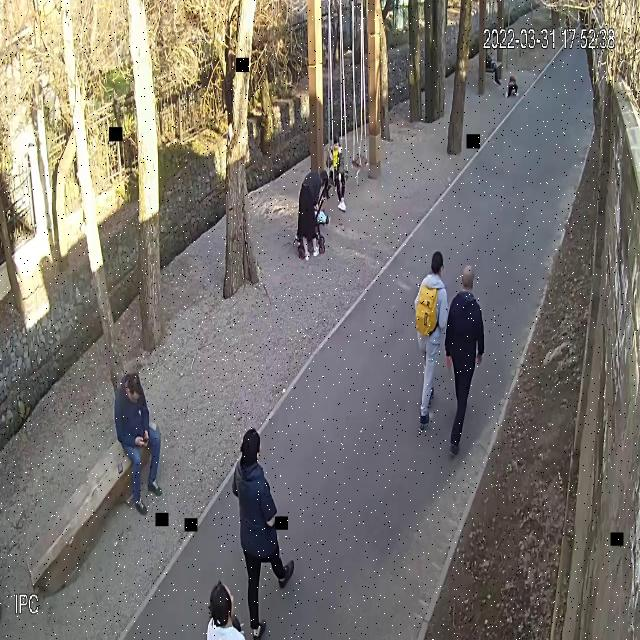backpack: (414, 272, 442, 352)
